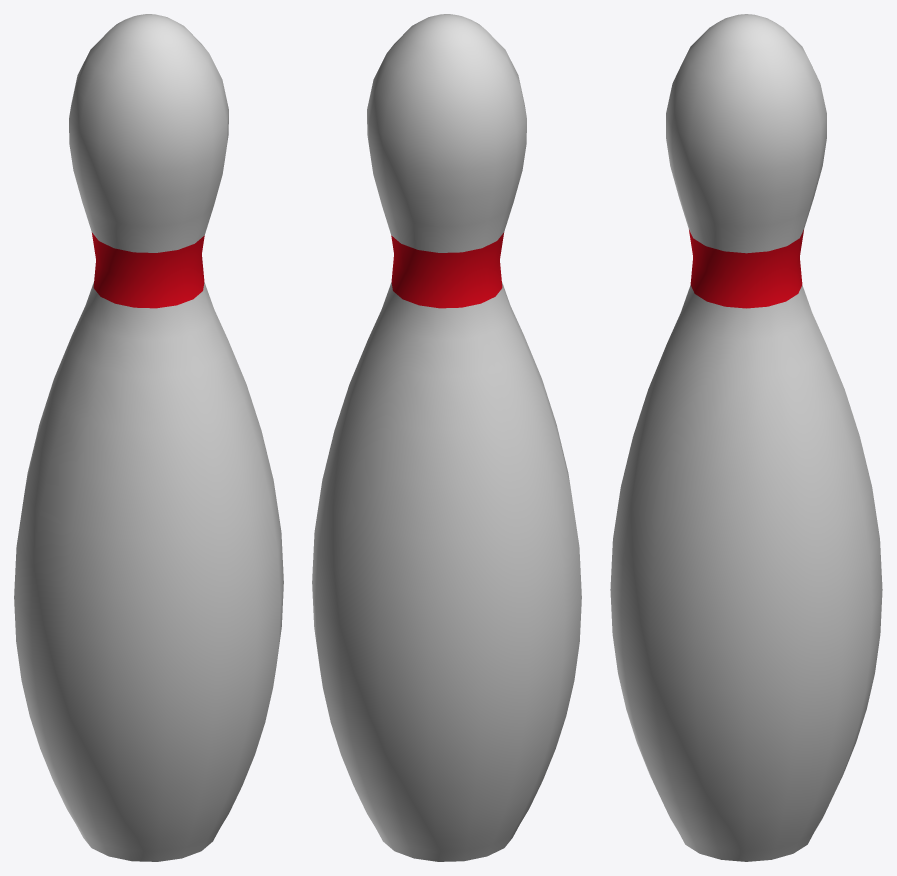
File: VR_Bowling_pin.glb
The picture shows the model from 3 angles, left to right: view 1: azimuth 30°, elevation 25°; view 2: azimuth 150°, elevation 25°; view 3: azimuth 270°, elevation 25°; orthographic projection.
Parts seen in each view (by area): view 1: Bowling_pin012; view 2: Bowling_pin012; view 3: Bowling_pin012.
Part boxes in pixels (x1,y1,x2,y2): Bowling_pin012: [14, 14, 283, 861]; Bowling_pin012: [312, 14, 581, 861]; Bowling_pin012: [610, 14, 882, 861].
Bounding box in the file's own units: 0.7917 × 2.62 × 0.7917.
